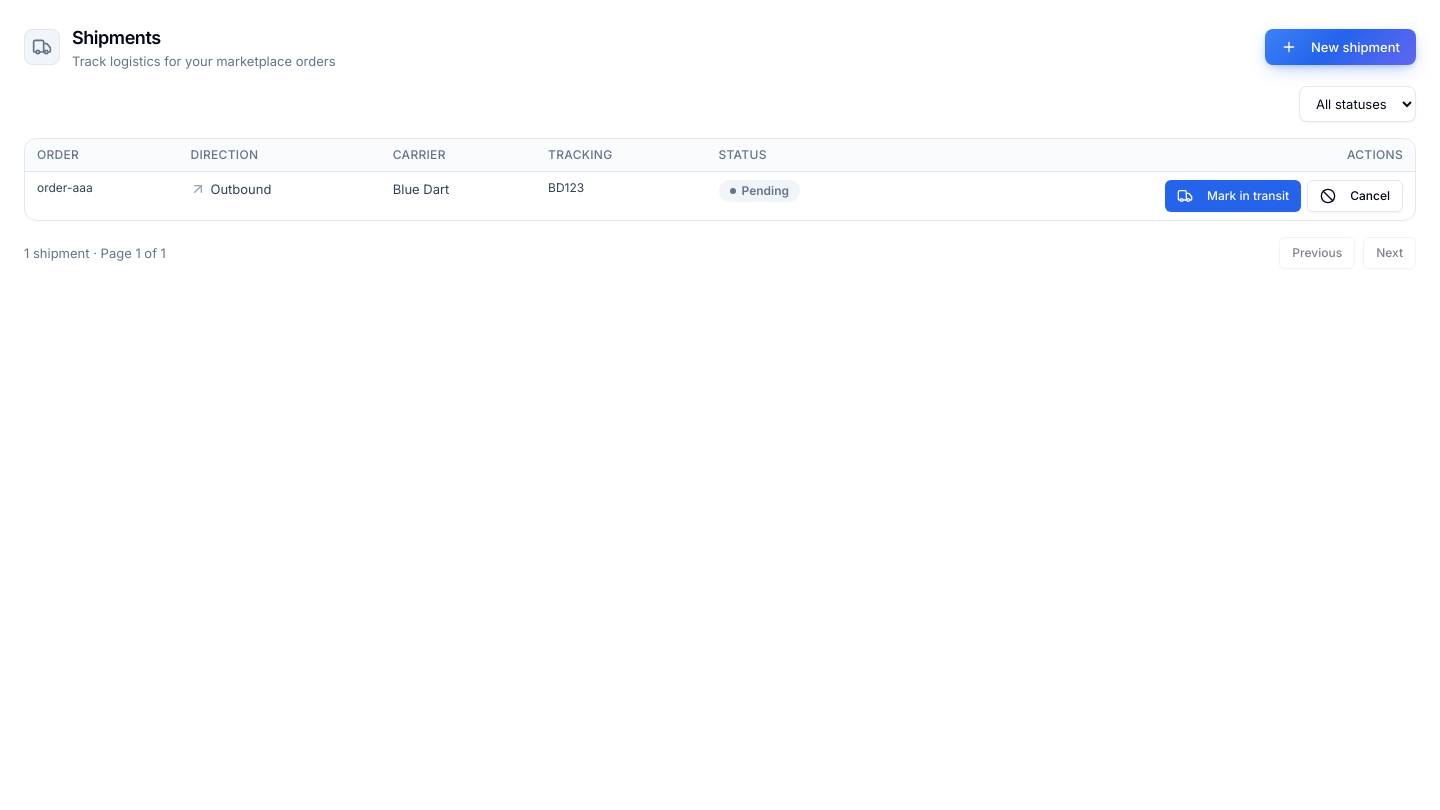
Test case: ShipmentsView › opens the create form when new shipment is clicked
Click the button "New shipment".
click(1340, 47)  # box [1265, 29, 1416, 65]
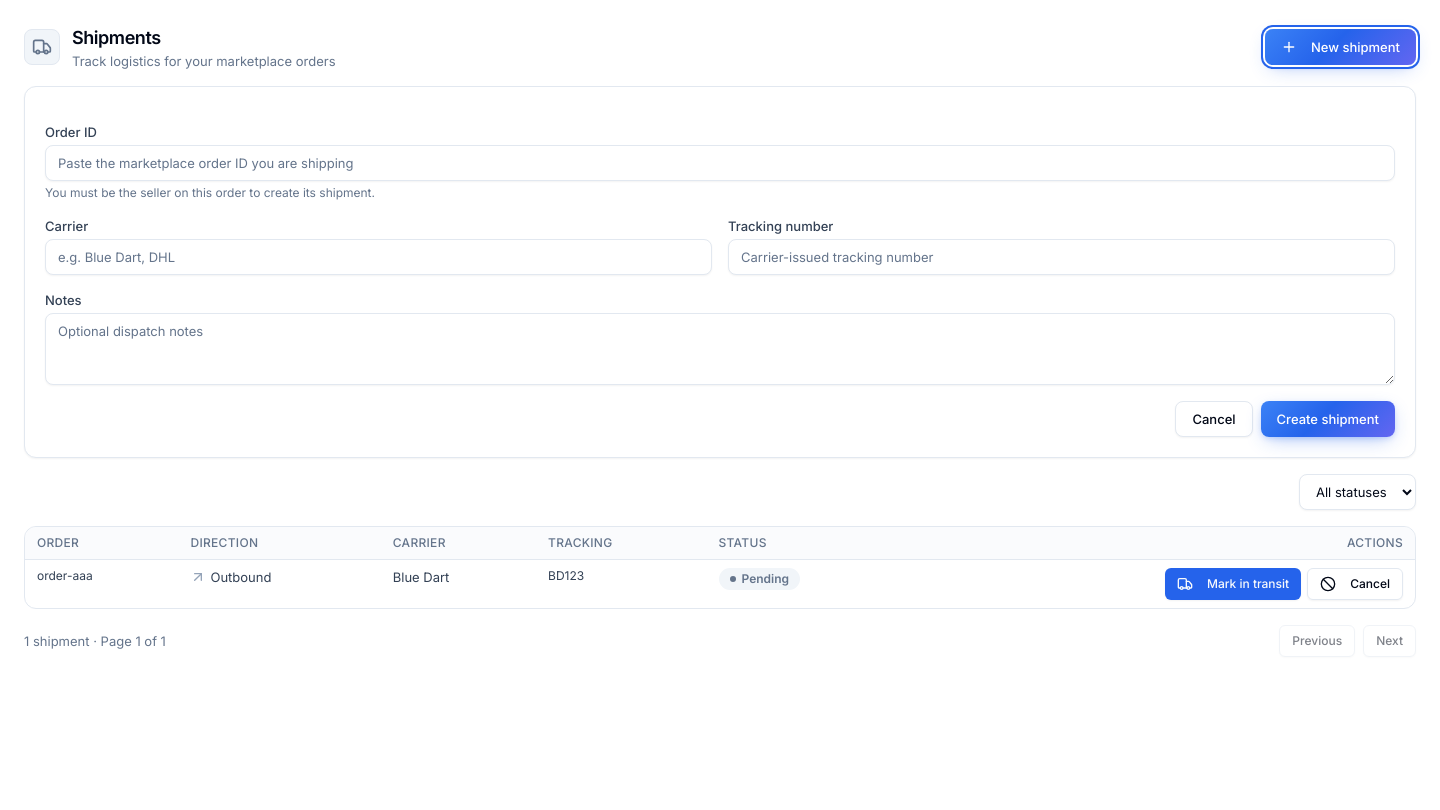
Result: the form named "create shipment" is shown at [24, 86, 1416, 458]
